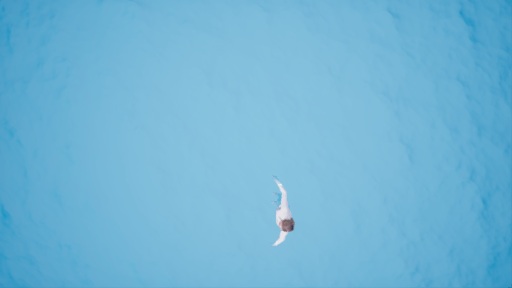person: (268, 176, 305, 247)
